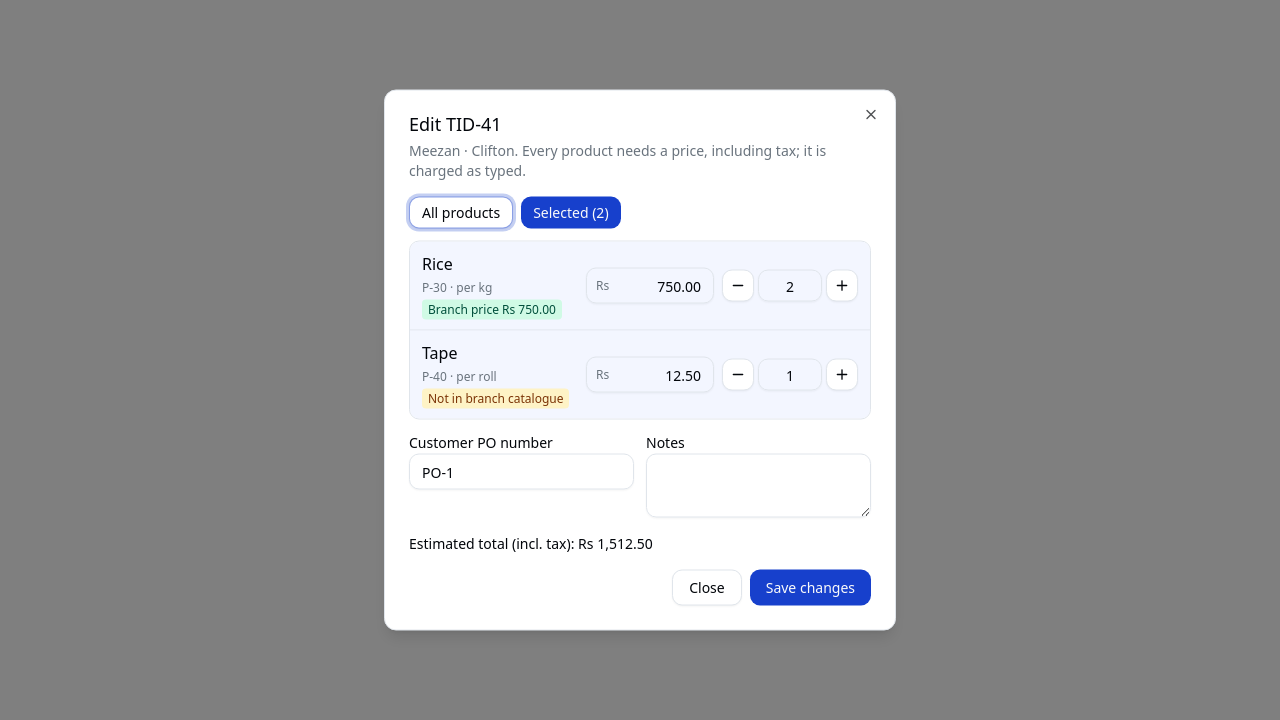
Test case: editing a desk order › refuses to save an order with no lines left
The width and height of the screenshot is (1280, 720).
Replace the text in the field named "Quantity of Rice" with "0" at (790, 286), box [758,270,822,302]
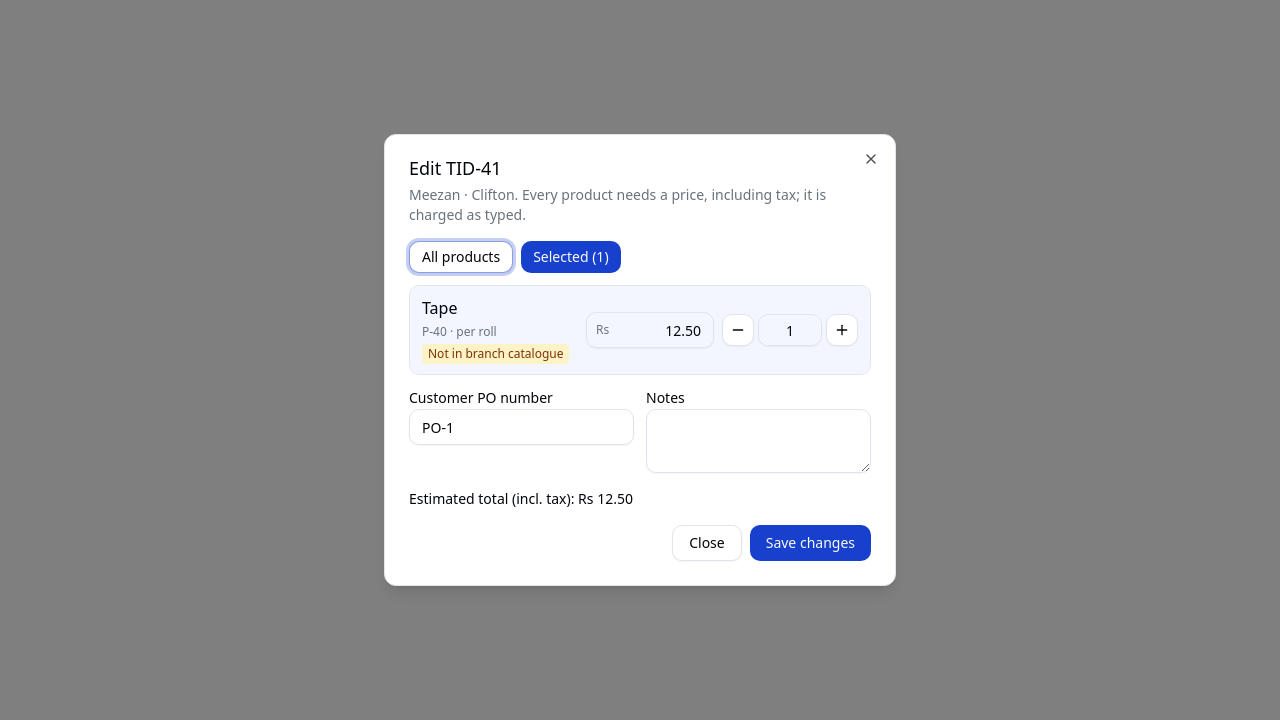
Click the button named "Decrease Quantity of Tape".
click(738, 330)  # box [722,314,754,346]
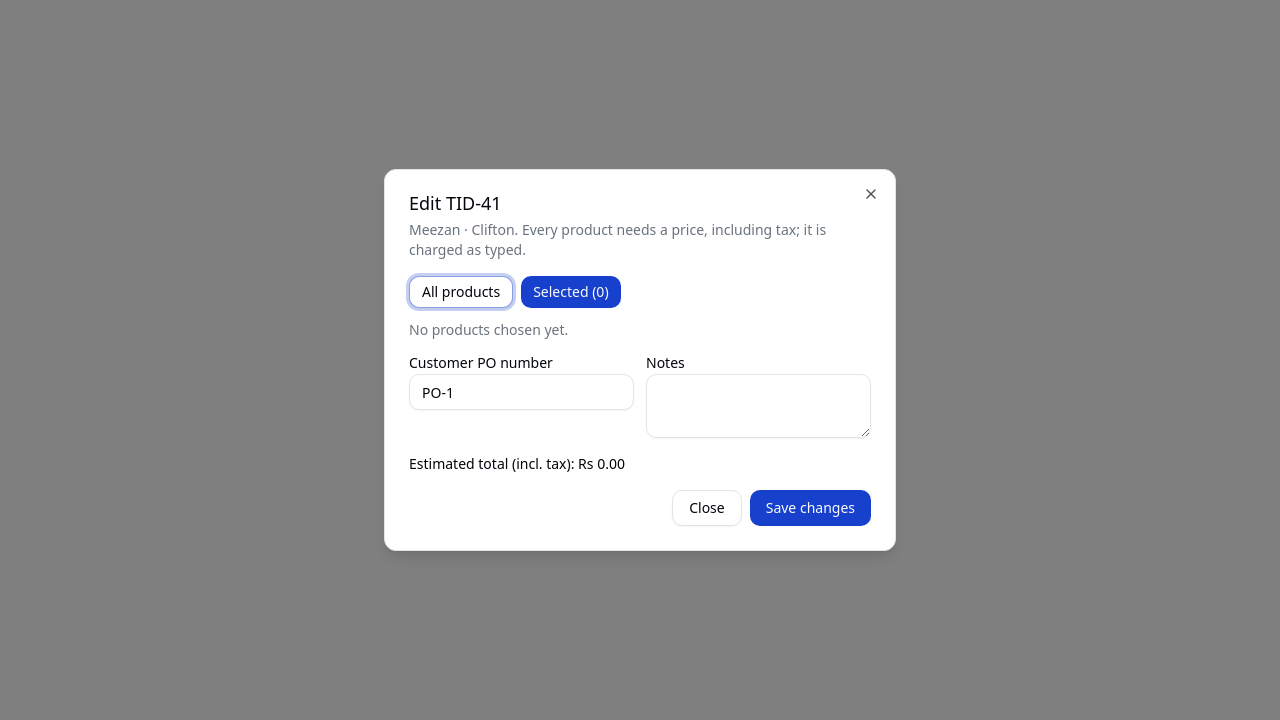
Click the button "Save changes".
click(810, 508)  # box [750,490,871,526]
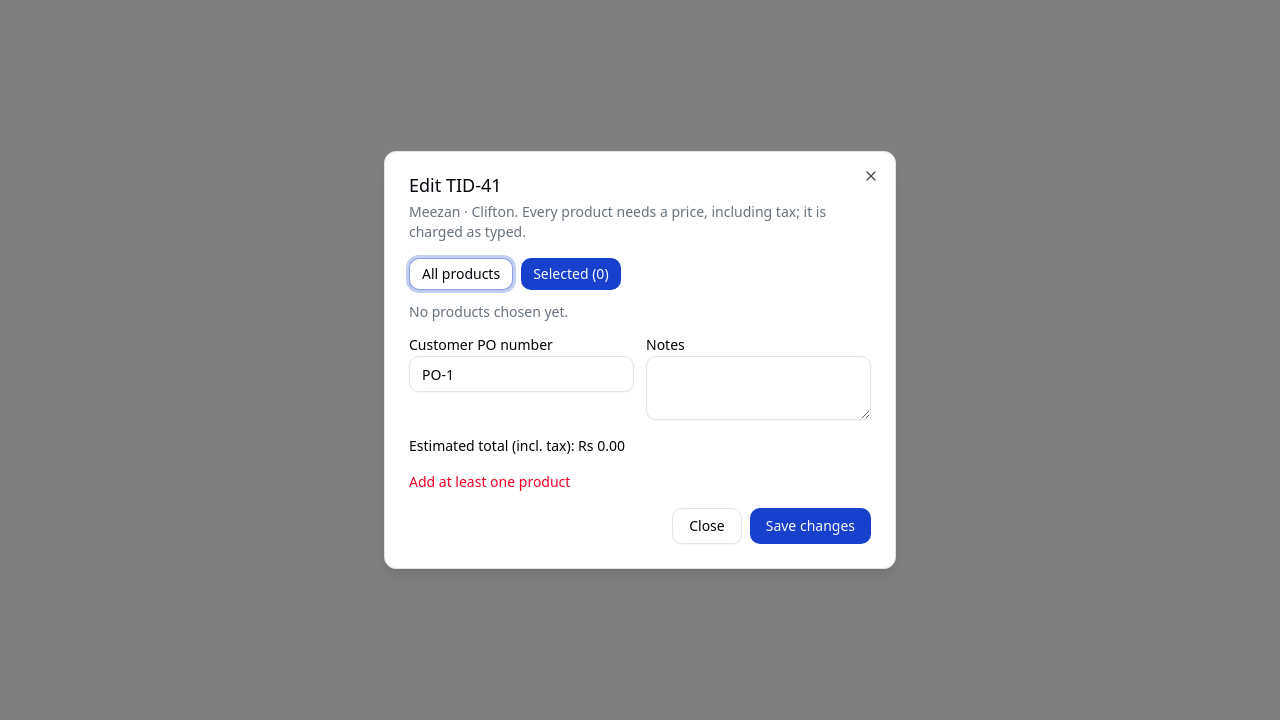
Result: the text "Add at least one product" is shown at [409,472,570,491]
